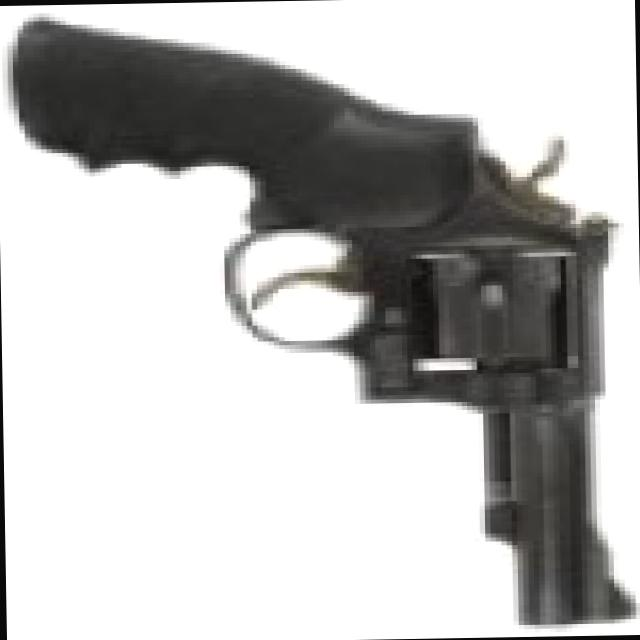handgun: (21, 6, 640, 622)
